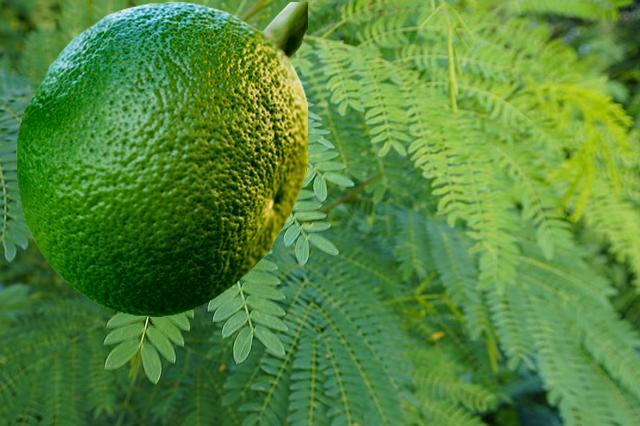dalandan: (16, 2, 306, 315)
